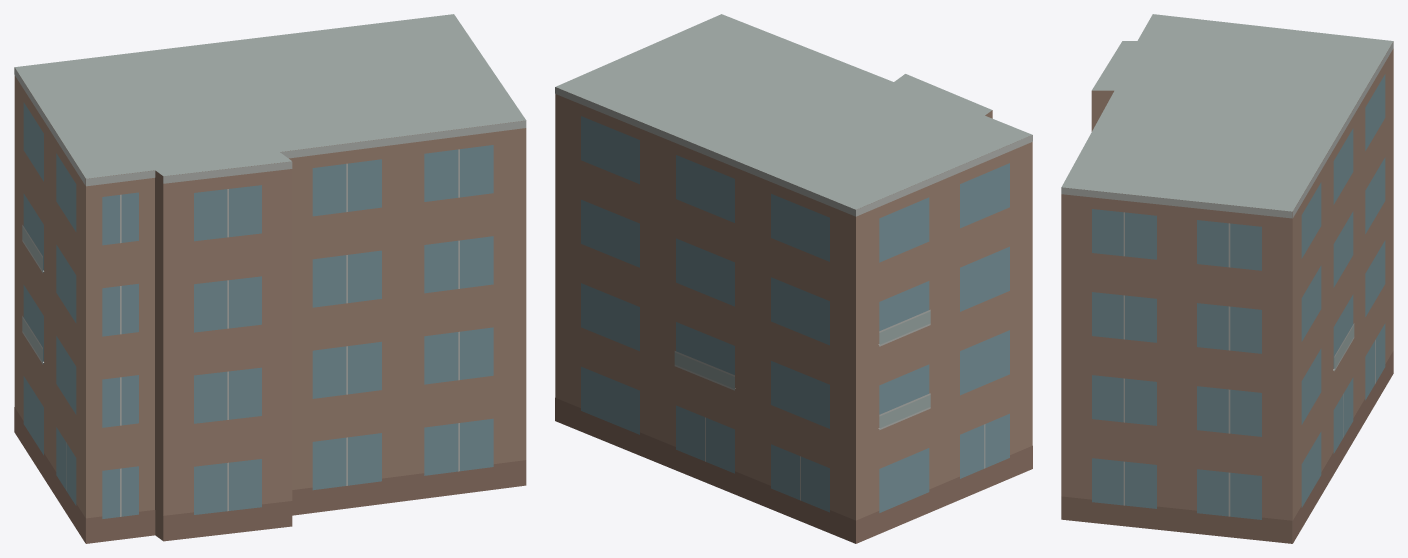
File: survey-upis-33030371.glb
3 views of the same model, side by side, from view 1: azimuth 30°, elevation 25°; view 2: azimuth 150°, elevation 25°; view 3: azimuth 270°, elevation 25° (orthographic). The views are drawn at different scales.
Parts seen in each view (by area): view 1: survey-upis-33030371.tmp; view 2: survey-upis-33030371.tmp; view 3: survey-upis-33030371.tmp.
Part boxes in pixels (x1=…): survey-upis-33030371.tmp: x1=14, y1=14, x2=526, y2=543; survey-upis-33030371.tmp: x1=555, y1=14, x2=1032, y2=543; survey-upis-33030371.tmp: x1=1061, y1=14, x2=1393, y2=543.
Size of the model in its own units: 15.06 by 11.8 by 10.71.
